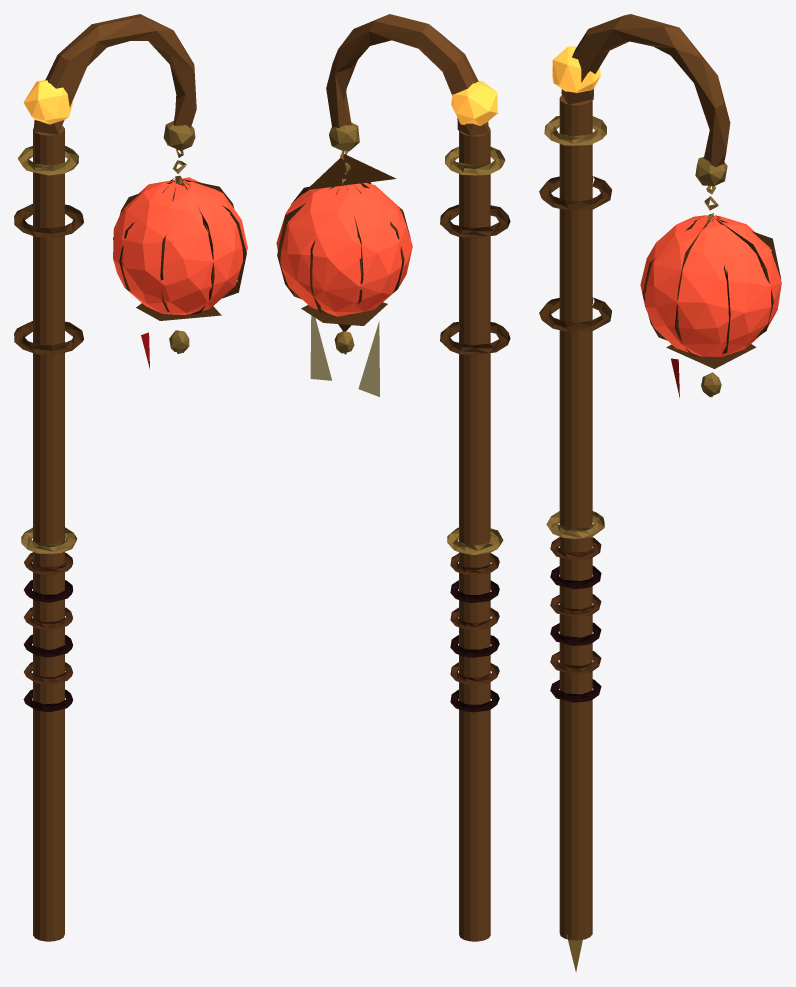
Rendered from lantern_0.glb.
3 renders of one model, left to right at view 1: azimuth 30°, elevation 25°; view 2: azimuth 150°, elevation 25°; view 3: azimuth 330°, elevation 25°, orthographic. The views are drawn at different scales.
Parts seen in each view (by area): view 1: Staff__001, Lantern__015, Staff__002, Staff__013, Lantern__024, Lantern__025, Staff__010, Staff__011, Staff__003, Lantern__027, Staff__009, Staff__006 (+1 smaller); view 2: Staff__001, Lantern__015, Staff__002, Staff__013, Lantern__026, Lantern__024, Lantern__025, Staff__010, Tags__031, Tags__033, Lantern__027, Staff__011 (+7 smaller); view 3: Staff__001, Lantern__015, Staff__002, Staff__013, Lantern__024, Lantern__025, Staff__010, Staff__011, Staff__003, Lantern__027, Staff__009, Staff__006 (+4 smaller).
Boxes of the visible parts, <box> form: Staff__001: <box>33,125,64,941</box>; Lantern__015: <box>113,177,247,314</box>; Staff__002: <box>33,14,196,134</box>; Staff__013: <box>23,80,72,124</box>; Lantern__024: <box>14,204,83,237</box>; Lantern__025: <box>14,321,83,354</box>; Staff__010: <box>17,146,78,175</box>; Staff__011: <box>21,527,77,554</box>; Staff__003: <box>163,121,195,150</box>; Lantern__027: <box>136,303,221,320</box>; Staff__009: <box>24,552,72,575</box>; Staff__006: <box>23,634,72,657</box>; Staff__001: <box>459,127,490,941</box>; Lantern__015: <box>276,182,412,316</box>; Staff__002: <box>326,14,488,135</box>; Staff__013: <box>451,80,497,125</box>; Lantern__026: <box>306,154,396,190</box>; Lantern__024: <box>440,204,510,238</box>; Lantern__025: <box>440,322,510,355</box>; Staff__010: <box>445,146,505,175</box>; Tags__031: <box>358,321,379,396</box>; Tags__033: <box>310,315,332,380</box>; Lantern__027: <box>301,302,387,325</box>; Staff__011: <box>447,527,503,555</box>; Staff__001: <box>559,95,592,940</box>; Lantern__015: <box>640,215,781,356</box>; Staff__002: <box>561,14,730,167</box>; Staff__013: <box>552,46,600,92</box>; Lantern__024: <box>539,176,611,210</box>; Lantern__025: <box>539,297,611,331</box>; Staff__010: <box>544,116,606,145</box>; Staff__011: <box>546,511,604,539</box>; Staff__003: <box>695,157,727,185</box>; Lantern__027: <box>666,344,756,368</box>; Staff__009: <box>550,537,601,560</box>; Staff__006: <box>550,622,601,645</box>.
Bounding box in the file's own units: 0.3048 × 1.23 × 0.1619.
